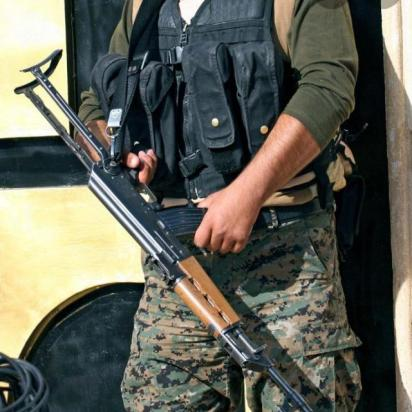Gun: (11, 47, 314, 411)
